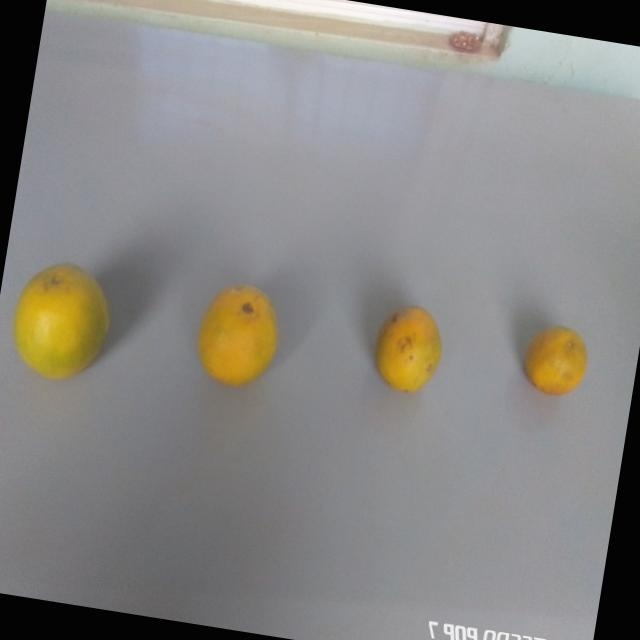agrume: (1, 248, 122, 400), (187, 274, 293, 397), (366, 294, 454, 404), (512, 310, 598, 414)
